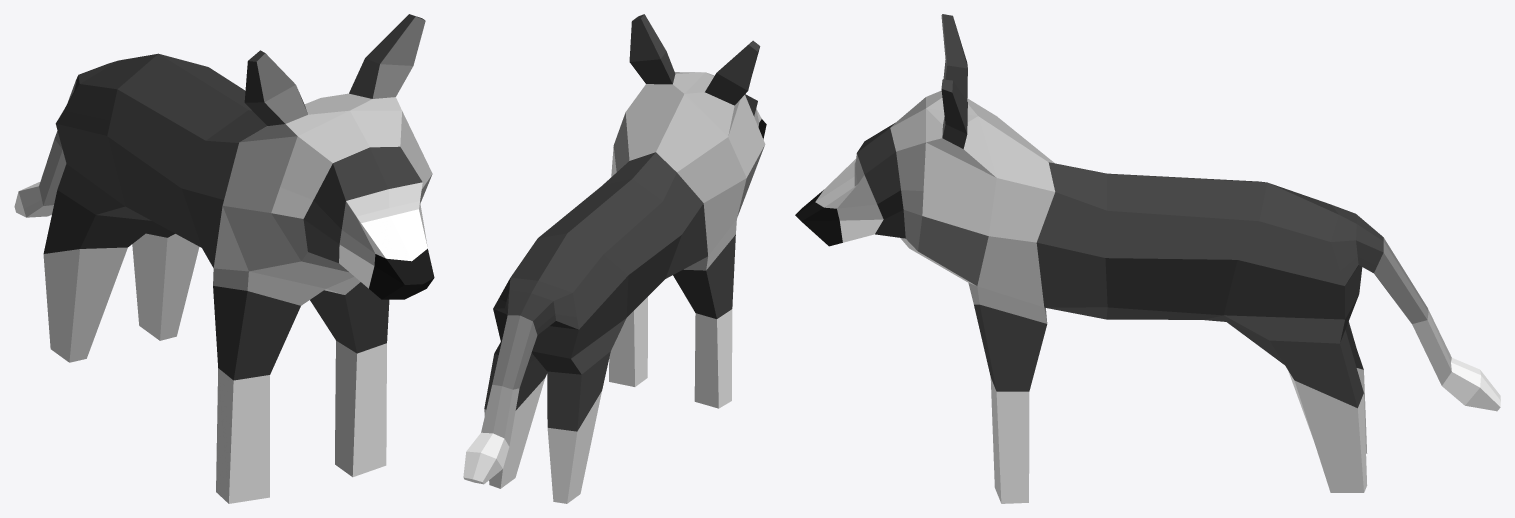
Rendered from Wolf.fbx.
The picture shows the model from 3 angles, left to right: view 1: azimuth 30°, elevation 25°; view 2: azimuth 150°, elevation 25°; view 3: azimuth 270°, elevation 25°; orthographic projection. The views are drawn at different scales.
Visible parts, largest first — view 1: Wolf; view 2: Wolf; view 3: Wolf.
Boxes of the visible parts, left/top/right/bottom form: Wolf: left=14, top=14, right=434, bottom=503; Wolf: left=463, top=14, right=766, bottom=503; Wolf: left=795, top=14, right=1500, bottom=503.
Bounding box in the file's own units: 0.4916 × 1.21 × 1.83.
